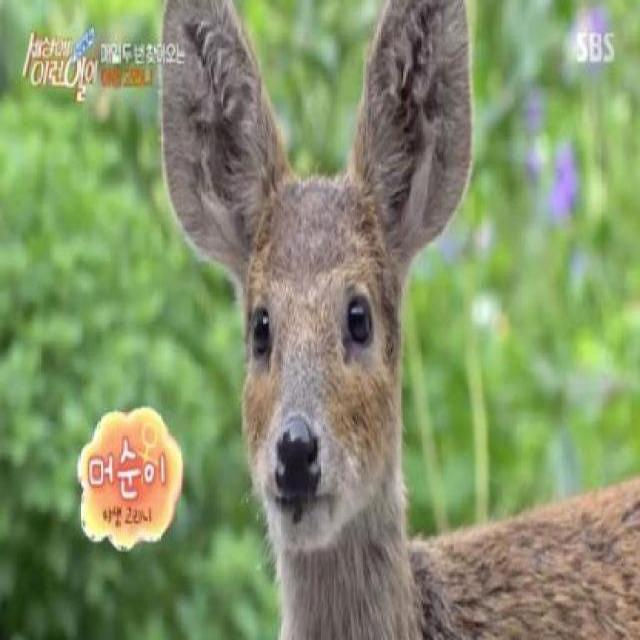deer: (165, 0, 478, 627)
